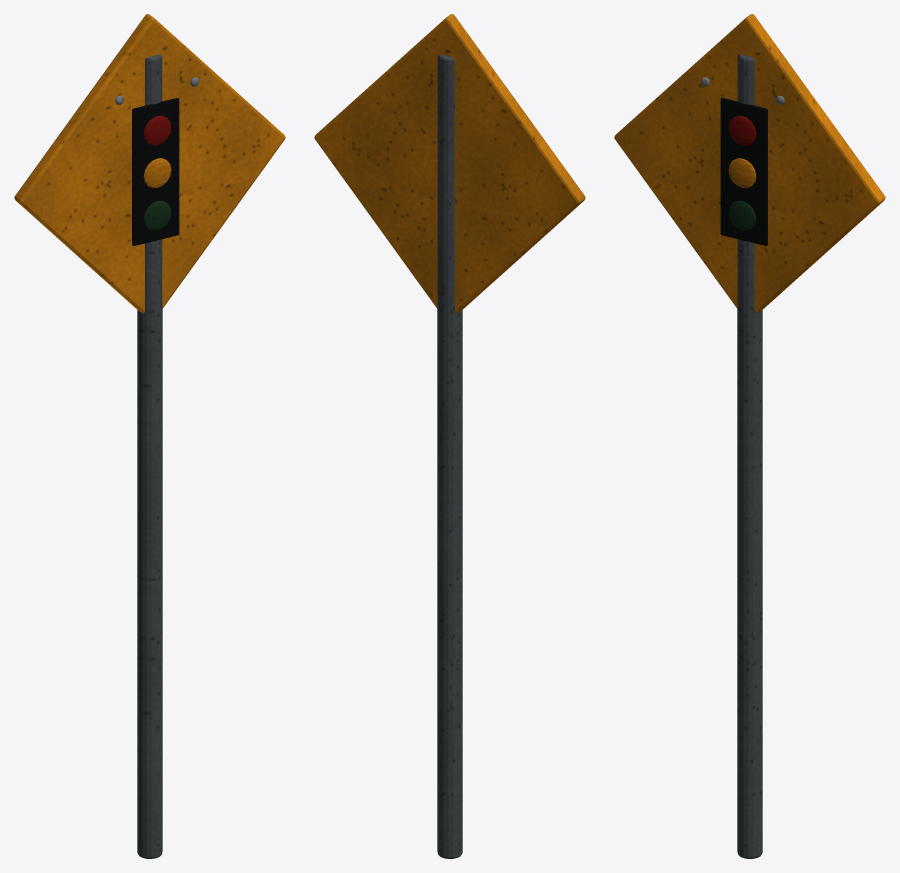
Rendered from PROP-373B78893E1E_lod0.glb.
3 renders of one model, left to right at view 1: azimuth 30°, elevation 25°; view 2: azimuth 150°, elevation 25°; view 3: azimuth 330°, elevation 25°, orthographic.
Visible parts, largest first — view 1: shaped_sign_plate, sign_post, traffic_symbol, traffic_symbol_lens, traffic_symbol_lens.001, traffic_symbol_lens.002; view 2: shaped_sign_plate, sign_post; view 3: shaped_sign_plate, sign_post, traffic_symbol, traffic_symbol_lens, traffic_symbol_lens.001, traffic_symbol_lens.002.
Part boxes in pixels (<box>): shaped_sign_plate: <box>14,14,285,313</box>; sign_post: <box>137,54,162,858</box>; traffic_symbol: <box>132,98,179,245</box>; traffic_symbol_lens: <box>143,115,171,145</box>; traffic_symbol_lens.001: <box>143,158,171,188</box>; traffic_symbol_lens.002: <box>143,200,171,230</box>; shaped_sign_plate: <box>314,14,585,313</box>; sign_post: <box>437,54,462,858</box>; shaped_sign_plate: <box>614,14,885,313</box>; sign_post: <box>737,54,762,858</box>; traffic_symbol: <box>720,98,767,245</box>; traffic_symbol_lens: <box>728,115,756,145</box>; traffic_symbol_lens.001: <box>728,158,756,188</box>; traffic_symbol_lens.002: <box>728,201,756,230</box>.
Size of the model in its own units: 0.8517 by 2.56 by 0.085.
Materials: 6 (6 with a texture image).
